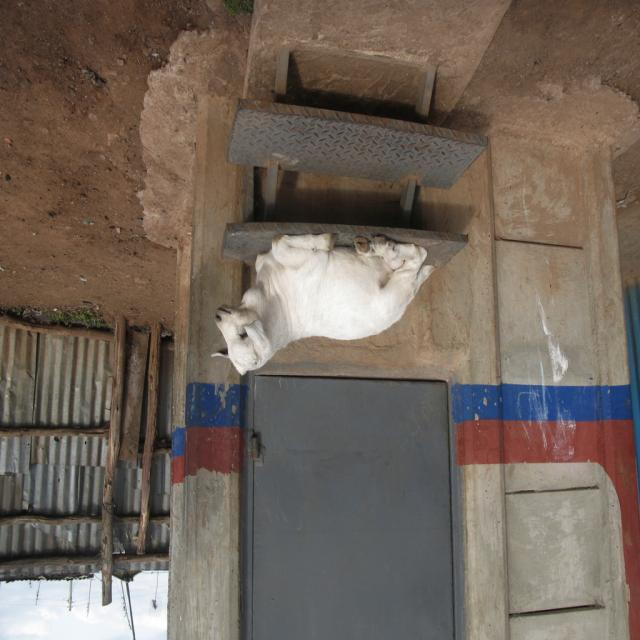Goat: (210, 233, 436, 378)
